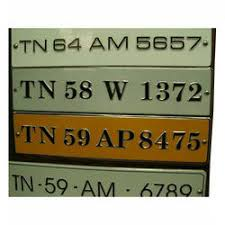T: (18, 77, 36, 102), (20, 124, 38, 147), (18, 37, 33, 58), (10, 172, 21, 193)
